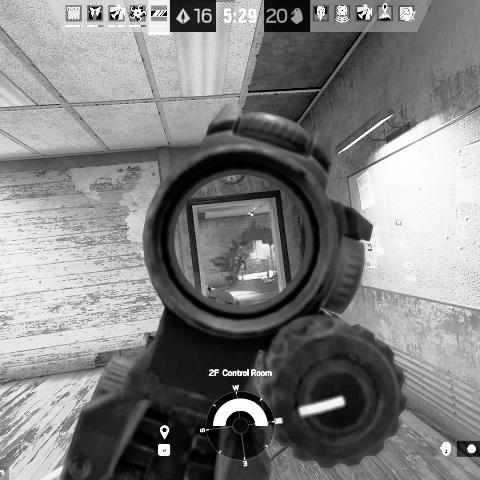Character: (236, 246, 250, 275)
Friend_label: (452, 208, 470, 224), (391, 218, 406, 234)
Head: (240, 248, 244, 252)
